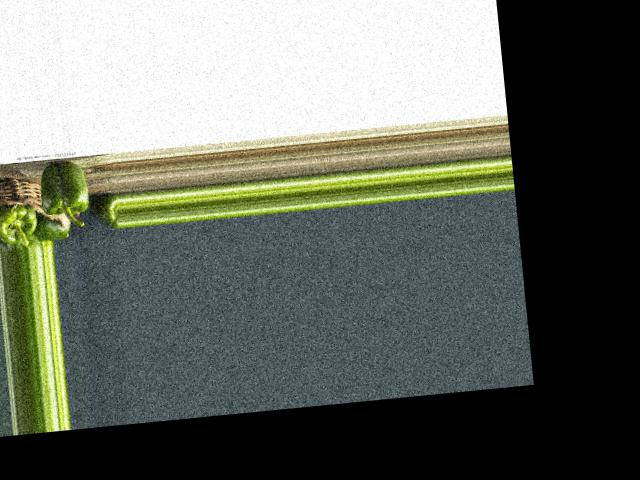bell_pepper: (98, 198, 120, 229)
